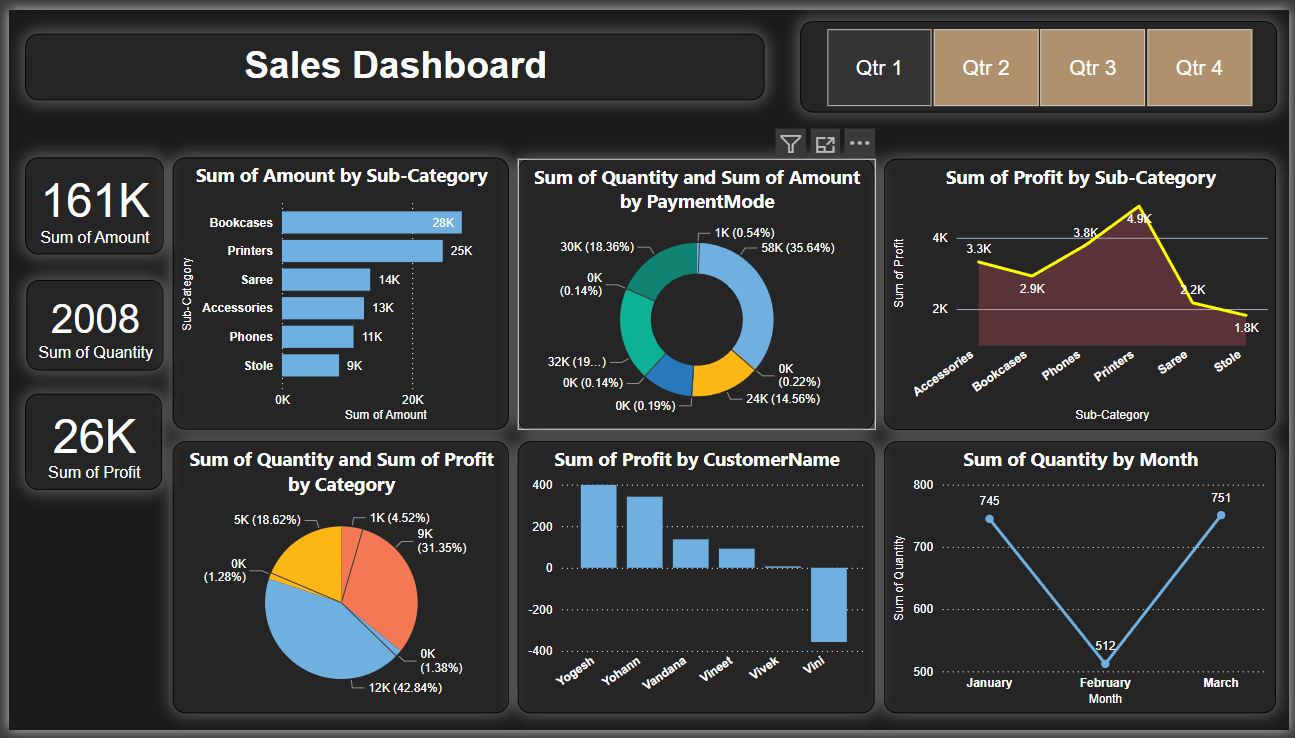

The page's visual inventory and layout, read from the dashboard file:
{"tool":"powerbi","page":{"name":"Page 1","canvas":[1280,720],"ordinal":0},"visuals":[{"type":"textbox","box":[16.7,23.4,739.2,66.8],"z":0},{"type":"lineChart","fields":{"Category":["Orders.Order Date.Variation.Date Hierarchy.Month"],"Y":["Details.Quantity"]},"box":[875.6,431.4,391.9,272.1],"z":1000},{"type":"areaChart","fields":{"Category":["Details.Sub-Category","Orders.Order Date.Variation.Date Hierarchy.Year","Orders.Order Date.Variation.Date Hierarchy.Quarter","Orders.Order Date.Variation.Date Hierarchy.Month","Orders.Order Date.Variation.Date Hierarchy.Day"],"Y":["Details.Profit"]},"box":[875.6,148.8,391.9,270.9],"z":2000},{"type":"pieChart","fields":{"Y":["Details.Quantity","Details.Profit"],"Category":["Details.Category"]},"box":[164,431.4,336,272.1],"z":3000},{"type":"donutChart","fields":{"Y":["Details.Quantity","Details.Amount"],"Category":["Details.PaymentMode"]},"box":[509.3,148.8,357,270.9],"z":4000},{"type":"card","fields":{"Values":["Details.Amount"]},"box":[16.7,148.1,138,96.8],"z":5000},{"type":"card","fields":{"Values":["Details.Profit"]},"box":[16.7,384,136.9,95.7],"z":6000},{"type":"card","fields":{"Values":["Details.Quantity"]},"box":[17.8,269.4,136.9,90.2],"z":7000},{"type":"barChart","fields":{"Y":["Details.Amount"],"Category":["Details.Sub-Category"]},"box":[164,147.7,336,272.1],"z":8000},{"type":"columnChart","fields":{"Category":["Orders.CustomerName"],"Y":["Details.Profit"]},"box":[509.3,431.4,357,272.1],"z":9000},{"type":"slicer","fields":{"Values":["Orders.Order Date.Variation.Date Hierarchy.Quarter"]},"box":[791.5,11.1,476.4,91.3],"z":10000}]}

Visuals, with their boxes in screenshot pixels (x1, y1, x2, y2), scaled from the page's 1280x720 canvas onto the 1295x738 screenshot:
textbox: {"x1": 17, "y1": 24, "x2": 765, "y2": 92}
lineChart - Orders.Order Date.Variation.Date Hierarchy.Month x Details.Quantity: {"x1": 886, "y1": 442, "x2": 1282, "y2": 721}
areaChart - Details.Sub-Category x Orders.Order Date.Variation.Date Hierarchy.Year: {"x1": 886, "y1": 153, "x2": 1282, "y2": 430}
pieChart - Details.Quantity x Details.Profit: {"x1": 166, "y1": 442, "x2": 506, "y2": 721}
donutChart - Details.Quantity x Details.Amount: {"x1": 515, "y1": 153, "x2": 876, "y2": 430}
card - Details.Amount: {"x1": 17, "y1": 152, "x2": 157, "y2": 251}
card - Details.Profit: {"x1": 17, "y1": 394, "x2": 155, "y2": 492}
card - Details.Quantity: {"x1": 18, "y1": 276, "x2": 157, "y2": 369}
barChart - Details.Amount x Details.Sub-Category: {"x1": 166, "y1": 151, "x2": 506, "y2": 430}
columnChart - Orders.CustomerName x Details.Profit: {"x1": 515, "y1": 442, "x2": 876, "y2": 721}
slicer - Orders.Order Date.Variation.Date Hierarchy.Quarter: {"x1": 801, "y1": 11, "x2": 1283, "y2": 105}
